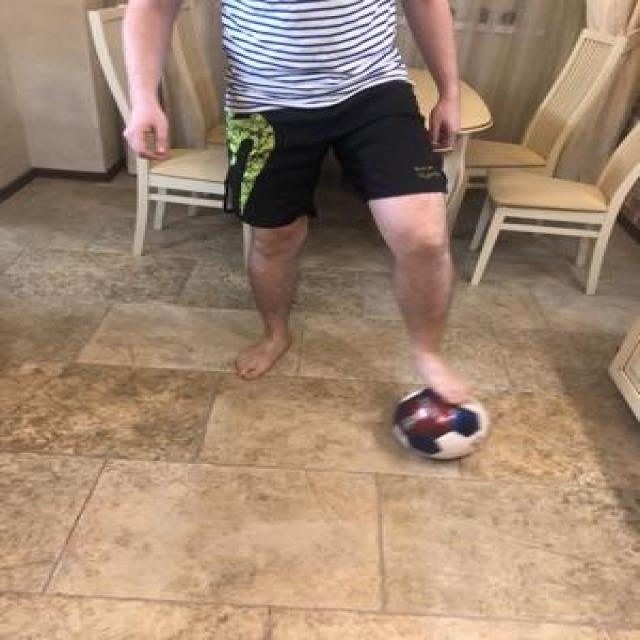Soccer Ball: (386, 381, 489, 459)
